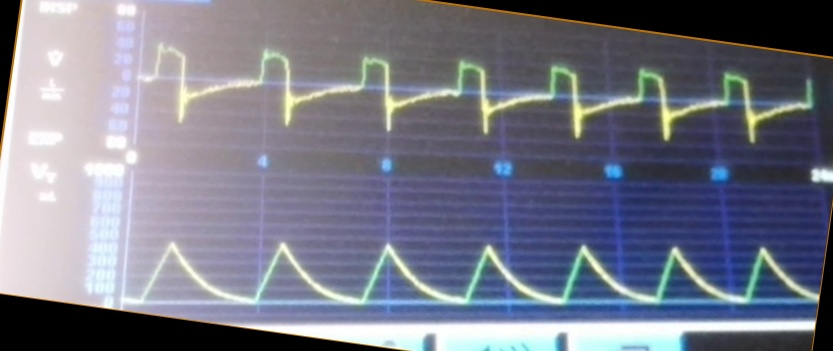Accumulation Flow: (143, 37, 815, 154)
Volume: (130, 217, 815, 314)
